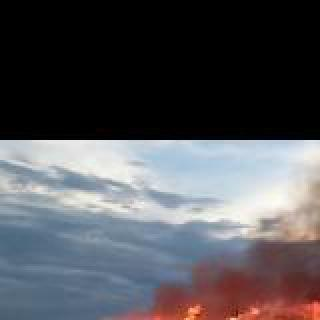fire: (160, 140, 320, 308), (102, 292, 320, 320)
